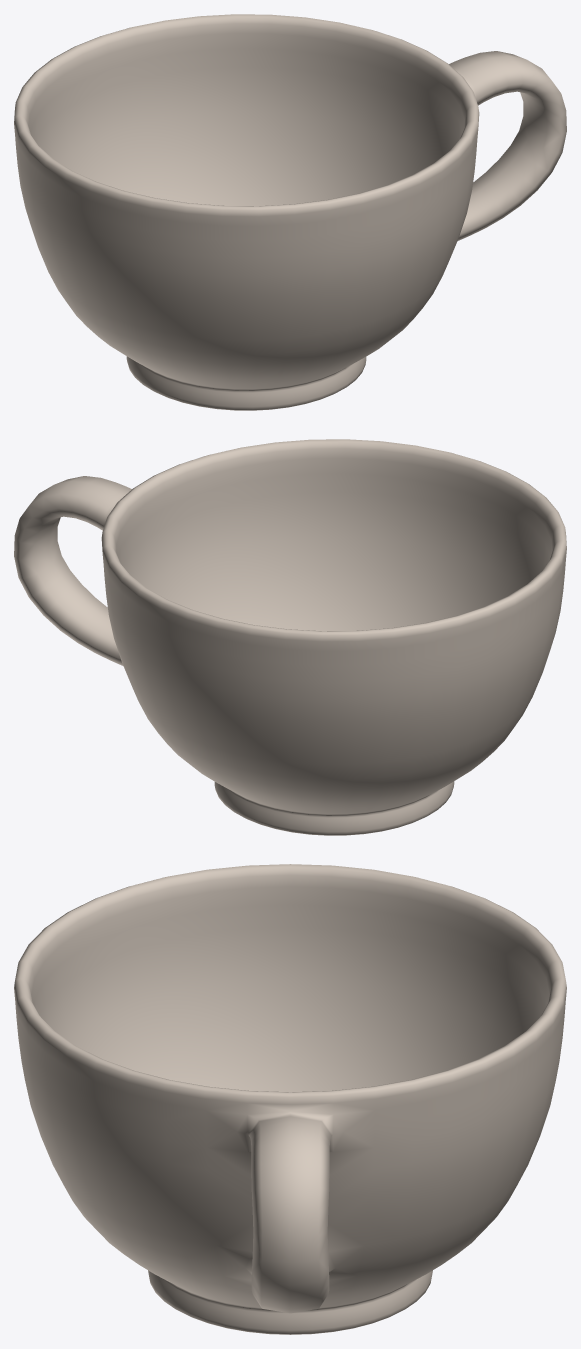
The model's file is vardagenMug.dae.
The picture shows the model from 3 angles, top to bottom: view 1: azimuth 30°, elevation 25°; view 2: azimuth 150°, elevation 25°; view 3: azimuth 270°, elevation 25°; orthographic projection. The views are drawn at different scales.
Parts seen in each view (by area): view 1: mug; view 2: mug; view 3: mug.
Part boxes in pixels (x1,y1,x2,y2): mug: (14, 14, 566, 410); mug: (14, 439, 566, 835); mug: (14, 864, 566, 1334).
Bounding box in the file's own units: 2.8 × 2.2 × 1.31.
